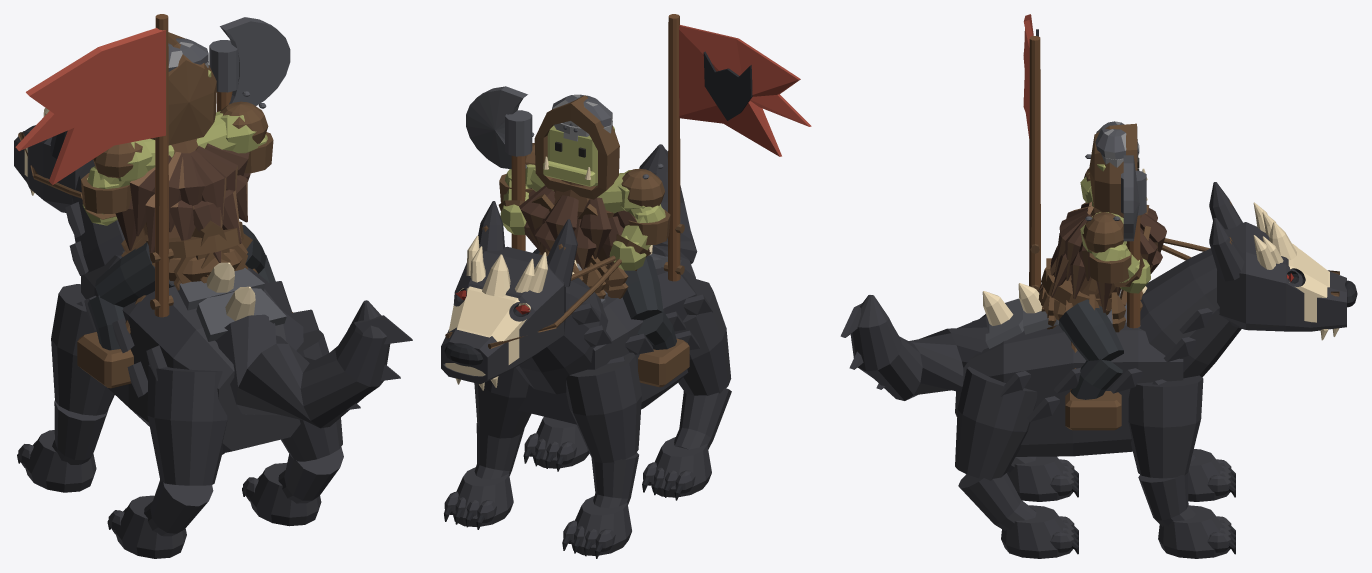
File: host_47.glb
The picture shows the model from 3 angles, left to right: view 1: azimuth 30°, elevation 25°; view 2: azimuth 150°, elevation 25°; view 3: azimuth 270°, elevation 25°; orthographic projection. The views are drawn at different scales.
Visible parts, largest first — view 1: V6 Last Howl source actual folded ragged red wolf banner, V6 wolf source broad bushy curled tail, V6 mount continuous anatomical thorax, V6 Last Howl source actual fitted overlapping shaggy mantle  (×11), V6 mount anatomical thigh BL, V6 mount anatomical thigh FL, V6 source dark executioner actual continuous crescent forged, V6 source fitted domed cloth hood, V6 Last Howl source actual leather-strapped back banner pole, V6 mount anatomical shin BL, V6 mount anatomical paw FL, V6 rider actual connected seated thigh L (+28 smaller); view 2: V6 Last Howl source actual folded ragged red wolf banner, V6 wolf source faceted skull, V6 mount anatomical thigh FL, V6 mount continuous anatomical thorax, V6 wolf curved muscular neck, V6 mount anatomical thigh BL, V6 source fitted domed cloth hood, V6 Last Howl source actual fitted overlapping shaggy mantle  (×4), V6 Last Howl actual ivory wolf skull mask, V6 Last Howl source actual leather-strapped back banner pole, V6 source dark executioner actual continuous crescent forged, V6 mount anatomical thigh FR (+28 smaller); view 3: V6 mount continuous anatomical thorax, V6 wolf source broad bushy curled tail, V6 wolf source faceted skull, V6 wolf curved muscular neck, V6 mount anatomical thigh BR, V6 mount anatomical thigh FR, V6 Last Howl source actual leather-strapped back banner pole, V6 rider actual connected seated thigh R, V6 mount anatomical shin BR, V6 mount anatomical paw FR, V6 mount anatomical paw BR, V6 source fitted domed cloth hood (+17 smaller).
Part boxes in pixels (left/top/right/bottom): V6 Last Howl source actual folded ragged red wolf banner: left=15, top=28, right=165, bottom=184; V6 wolf source broad bushy curled tail: left=215, top=300, right=390, bottom=428; V6 mount continuous anatomical thorax: left=81, top=255, right=303, bottom=453; V6 Last Howl source actual fitted overlapping shaggy mantle  (×11): left=115, top=143, right=249, bottom=262; V6 mount anatomical thigh BL: left=147, top=365, right=227, bottom=485; V6 mount anatomical thigh FL: left=51, top=284, right=114, bottom=415; V6 source dark executioner actual continuous crescent forged: left=220, top=17, right=290, bottom=105; V6 source fitted domed cloth hood: left=150, top=32, right=216, bottom=145; V6 Last Howl source actual leather-strapped back banner pole: left=154, top=14, right=169, bottom=317; V6 mount anatomical shin BL: left=144, top=480, right=213, bottom=536; V6 mount anatomical paw FL: left=24, top=430, right=96, bottom=492; V6 rider actual connected seated thigh L: left=95, top=242, right=174, bottom=307; V6 Last Howl source actual folded ragged red wolf banner: left=679, top=25, right=811, bottom=156; V6 wolf source faceted skull: left=441, top=246, right=565, bottom=384; V6 mount anatomical thigh FL: left=566, top=352, right=641, bottom=463; V6 mount continuous anatomical thorax: left=518, top=267, right=696, bottom=424; V6 wolf curved muscular neck: left=516, top=278, right=608, bottom=394; V6 mount anatomical thigh BL: left=678, top=279, right=731, bottom=395; V6 source fitted domed cloth hood: left=534, top=95, right=619, bottom=199; V6 Last Howl source actual fitted overlapping shaggy mantle  (×4): left=519, top=185, right=611, bottom=269; V6 Last Howl actual ivory wolf skull mask: left=445, top=286, right=530, bottom=376; V6 Last Howl source actual leather-strapped back banner pole: left=668, top=14, right=680, bottom=281; V6 source dark executioner actual continuous crescent forged: left=466, top=86, right=527, bottom=169; V6 mount anatomical thigh FR: left=474, top=367, right=531, bottom=438; V6 mount continuous anatomical thorax: left=963, top=324, right=1183, bottom=456; V6 wolf source broad bushy curled tail: left=850, top=295, right=989, bottom=400; V6 wolf source faceted skull: left=1217, top=222, right=1346, bottom=331; V6 wolf curved muscular neck: left=1139, top=248, right=1241, bottom=378; V6 mount anatomical thigh BR: left=955, top=366, right=1037, bottom=480; V6 mount anatomical thigh FR: left=1128, top=375, right=1203, bottom=478; V6 Last Howl source actual leather-strapped back banner pole: left=1029, top=36, right=1040, bottom=287; V6 rider actual connected seated thigh R: left=1059, top=299, right=1123, bottom=360; V6 mount anatomical shin BR: left=958, top=473, right=1036, bottom=530; V6 mount anatomical paw FR: left=1158, top=505, right=1230, bottom=558; V6 mount anatomical paw BR: left=1001, top=505, right=1072, bottom=558; V6 source fitted domed cloth hood: left=1089, top=123, right=1137, bottom=217.
Size of the model in its own units: 1.47 by 2.25 by 2.3.
